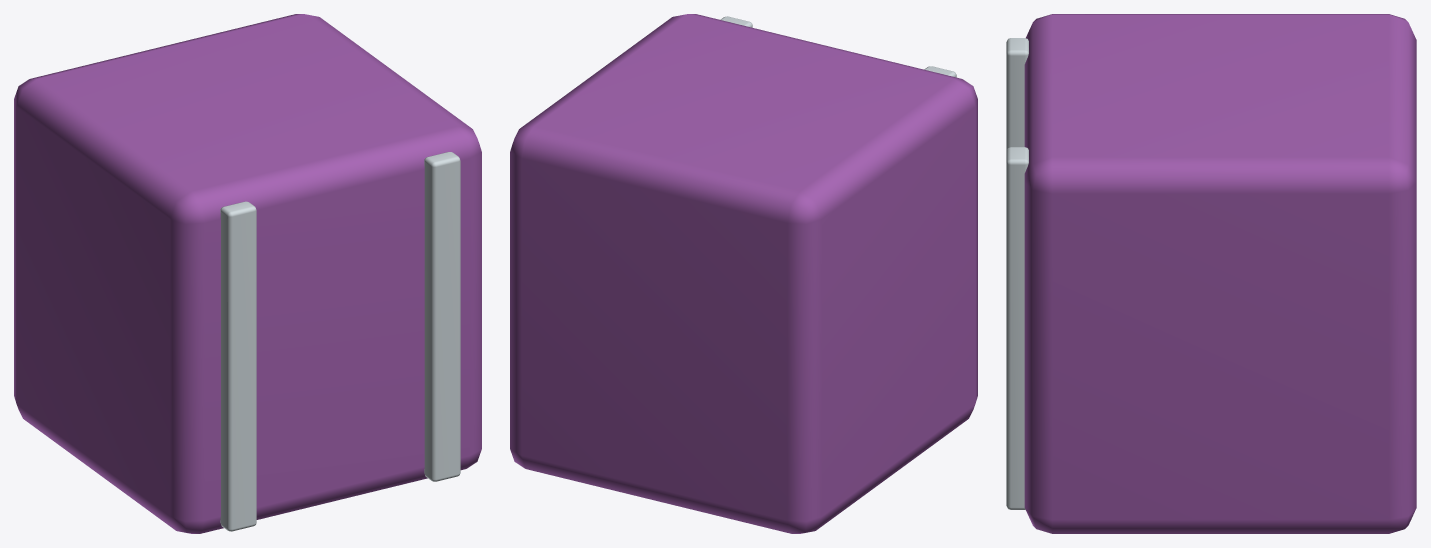
The model's file is obstacle-crate.glb.
3 views of the same model, side by side, from view 1: azimuth 30°, elevation 25°; view 2: azimuth 150°, elevation 25°; view 3: azimuth 270°, elevation 25° (orthographic). The views are drawn at different scales.
Visible parts, largest first — view 1: Scrap crate, Crate strap.001, Crate strap; view 2: Scrap crate; view 3: Scrap crate, Crate strap.001, Crate strap.
Part boxes in pixels (x1,y1,x2,y2): Scrap crate: (14,14,481,533); Crate strap.001: (424,152,460,481); Crate strap: (220,201,256,531); Scrap crate: (510,14,977,533); Scrap crate: (1024,14,1416,533); Crate strap.001: (1006,147,1028,509); Crate strap: (1006,38,1028,150).
Size of the model in its own units: 0.85 by 0.9 by 0.89.
